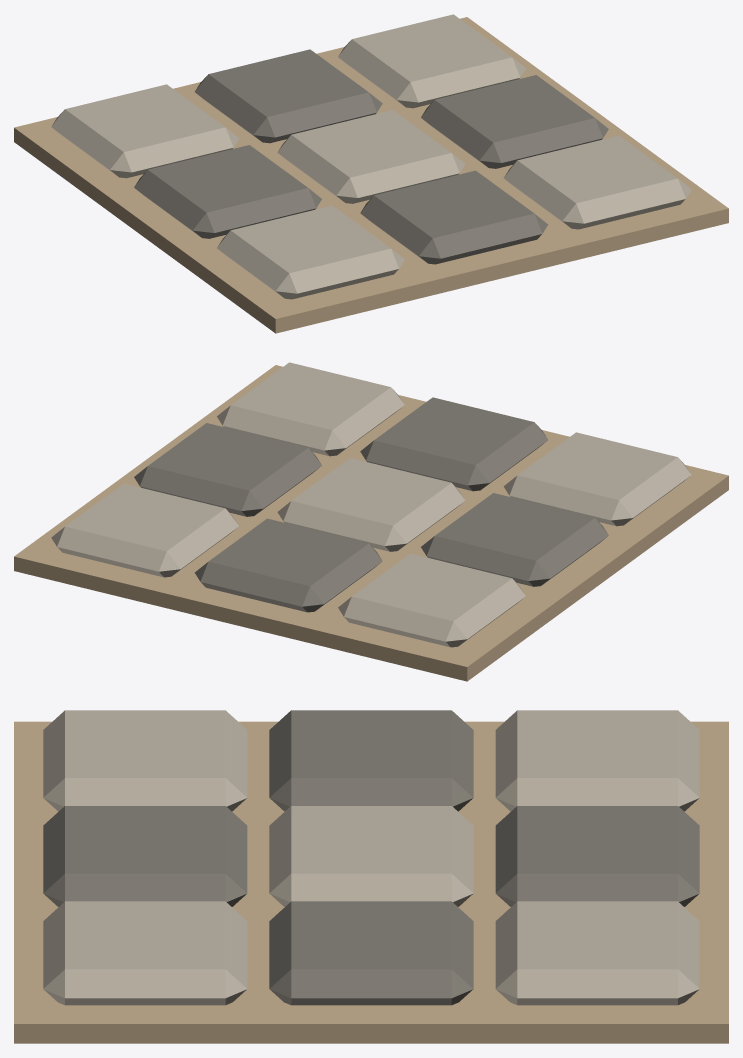
Rendered from road_cobbles.fbx.
3 views of the same model, one above another, from view 1: azimuth 30°, elevation 25°; view 2: azimuth 150°, elevation 25°; view 3: azimuth 270°, elevation 25° (orthographic). The views are drawn at different scales.
Visible parts, largest first — view 1: Prop; view 2: Prop; view 3: Prop.
Boxes of the visible parts, x1,y1,x2,y2 form: Prop: (14, 14, 728, 333); Prop: (14, 362, 728, 681); Prop: (14, 710, 728, 1043).
Size of the model in its own units: 0.98 by 0.98 by 0.08.
